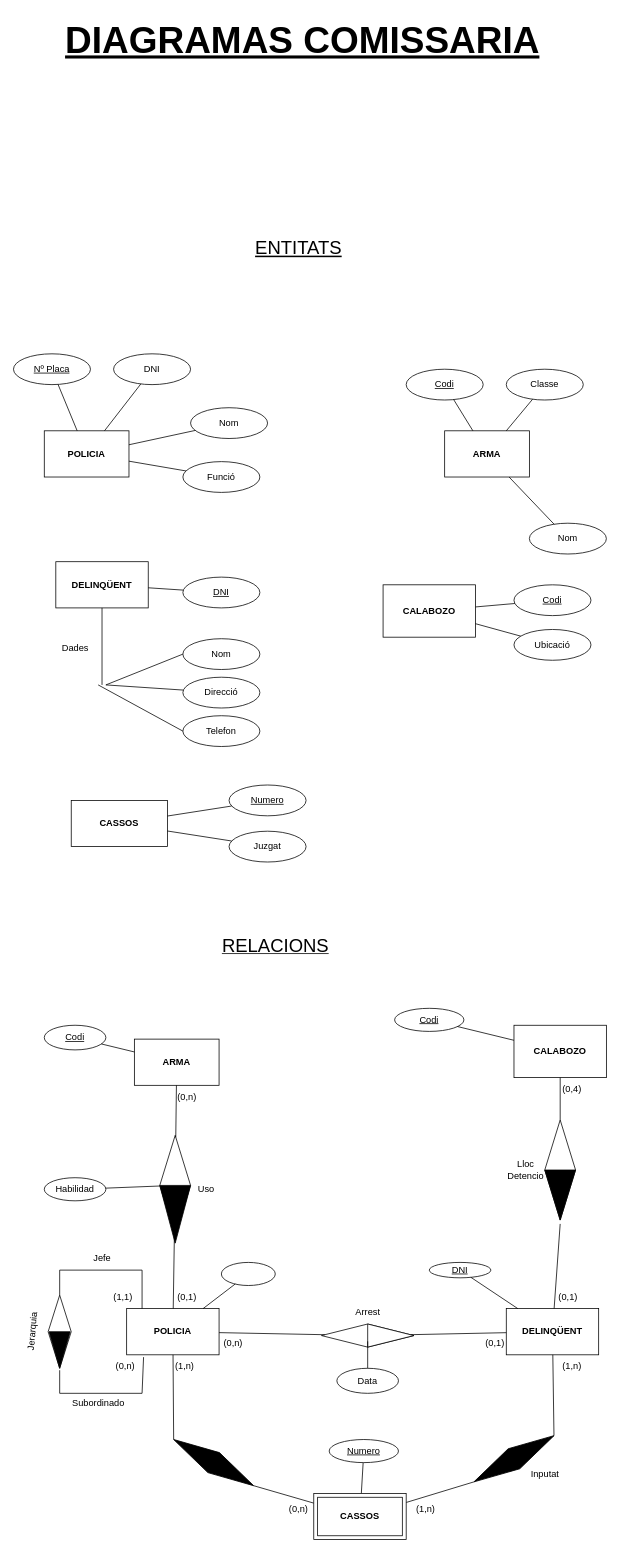
This 620x1553 diagram has some shape labels left out. Each missing label, with the centre of its shape:
"Investiga" goes at [213,1462].
"NºPlaca" goes at [248,1274].
